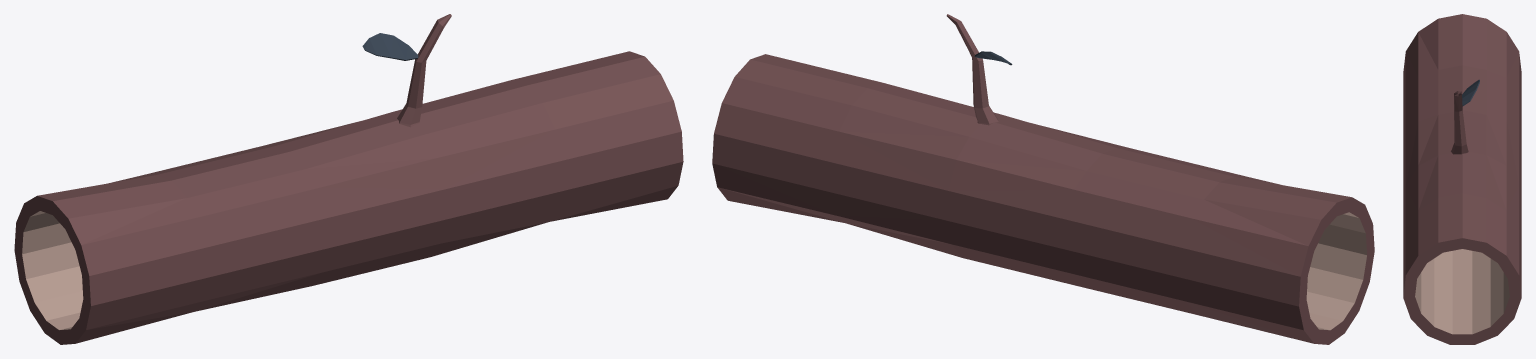
Rendered from tronco.fbx.
3 renders of one model, left to right at view 1: azimuth 30°, elevation 25°; view 2: azimuth 150°, elevation 25°; view 3: azimuth 270°, elevation 25°, orthographic. The views are drawn at different scales.
Parts seen in each view (by area): view 1: polySurface2; view 2: polySurface2; view 3: polySurface2.
Boxes of the visible parts, x1=… form: polySurface2: x1=14, y1=14, x2=683, y2=344; polySurface2: x1=712, y1=14, x2=1374, y2=344; polySurface2: x1=1403, y1=14, x2=1521, y2=344.
Size of the model in its own units: 83.12 by 30.85 by 18.59.
